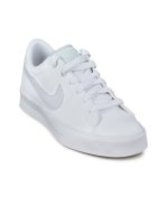shoes: (8, 33, 151, 159)
